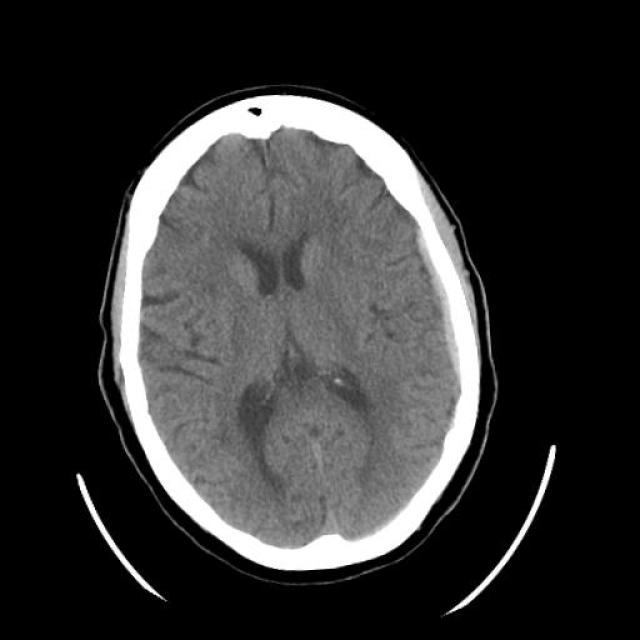Subdural: (400, 190, 516, 419)
